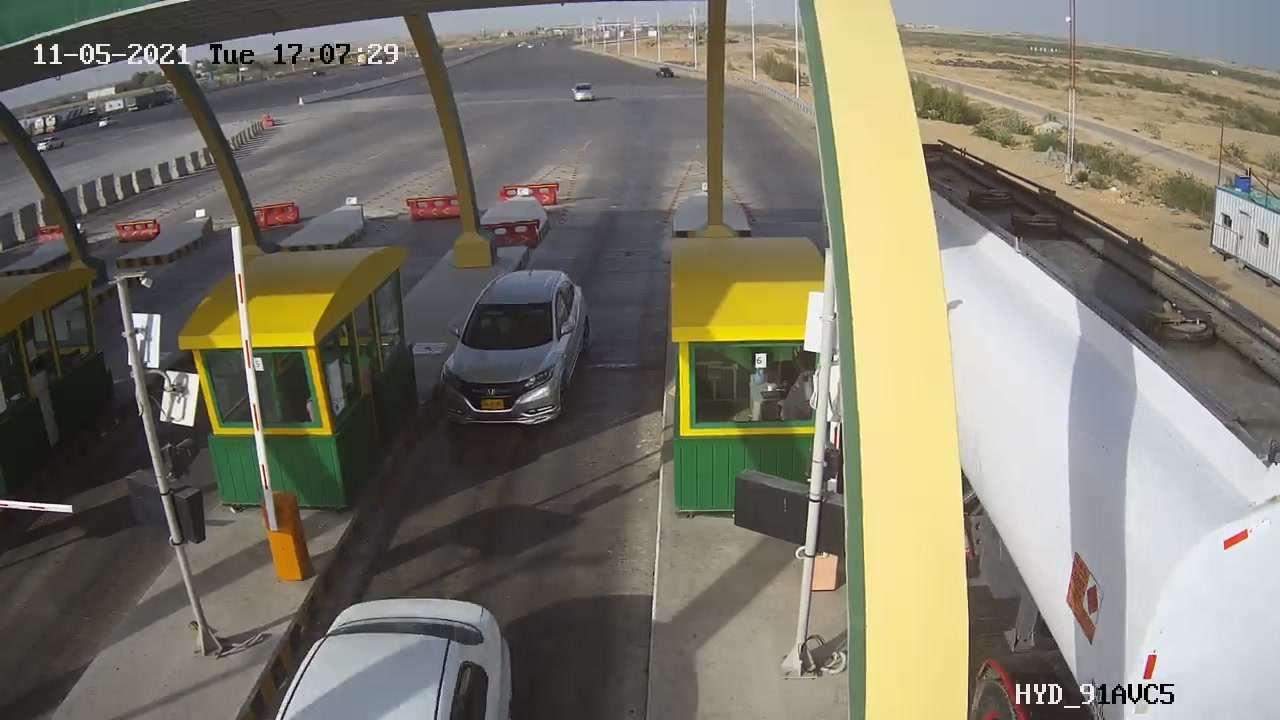F1: (418, 256, 608, 451)
